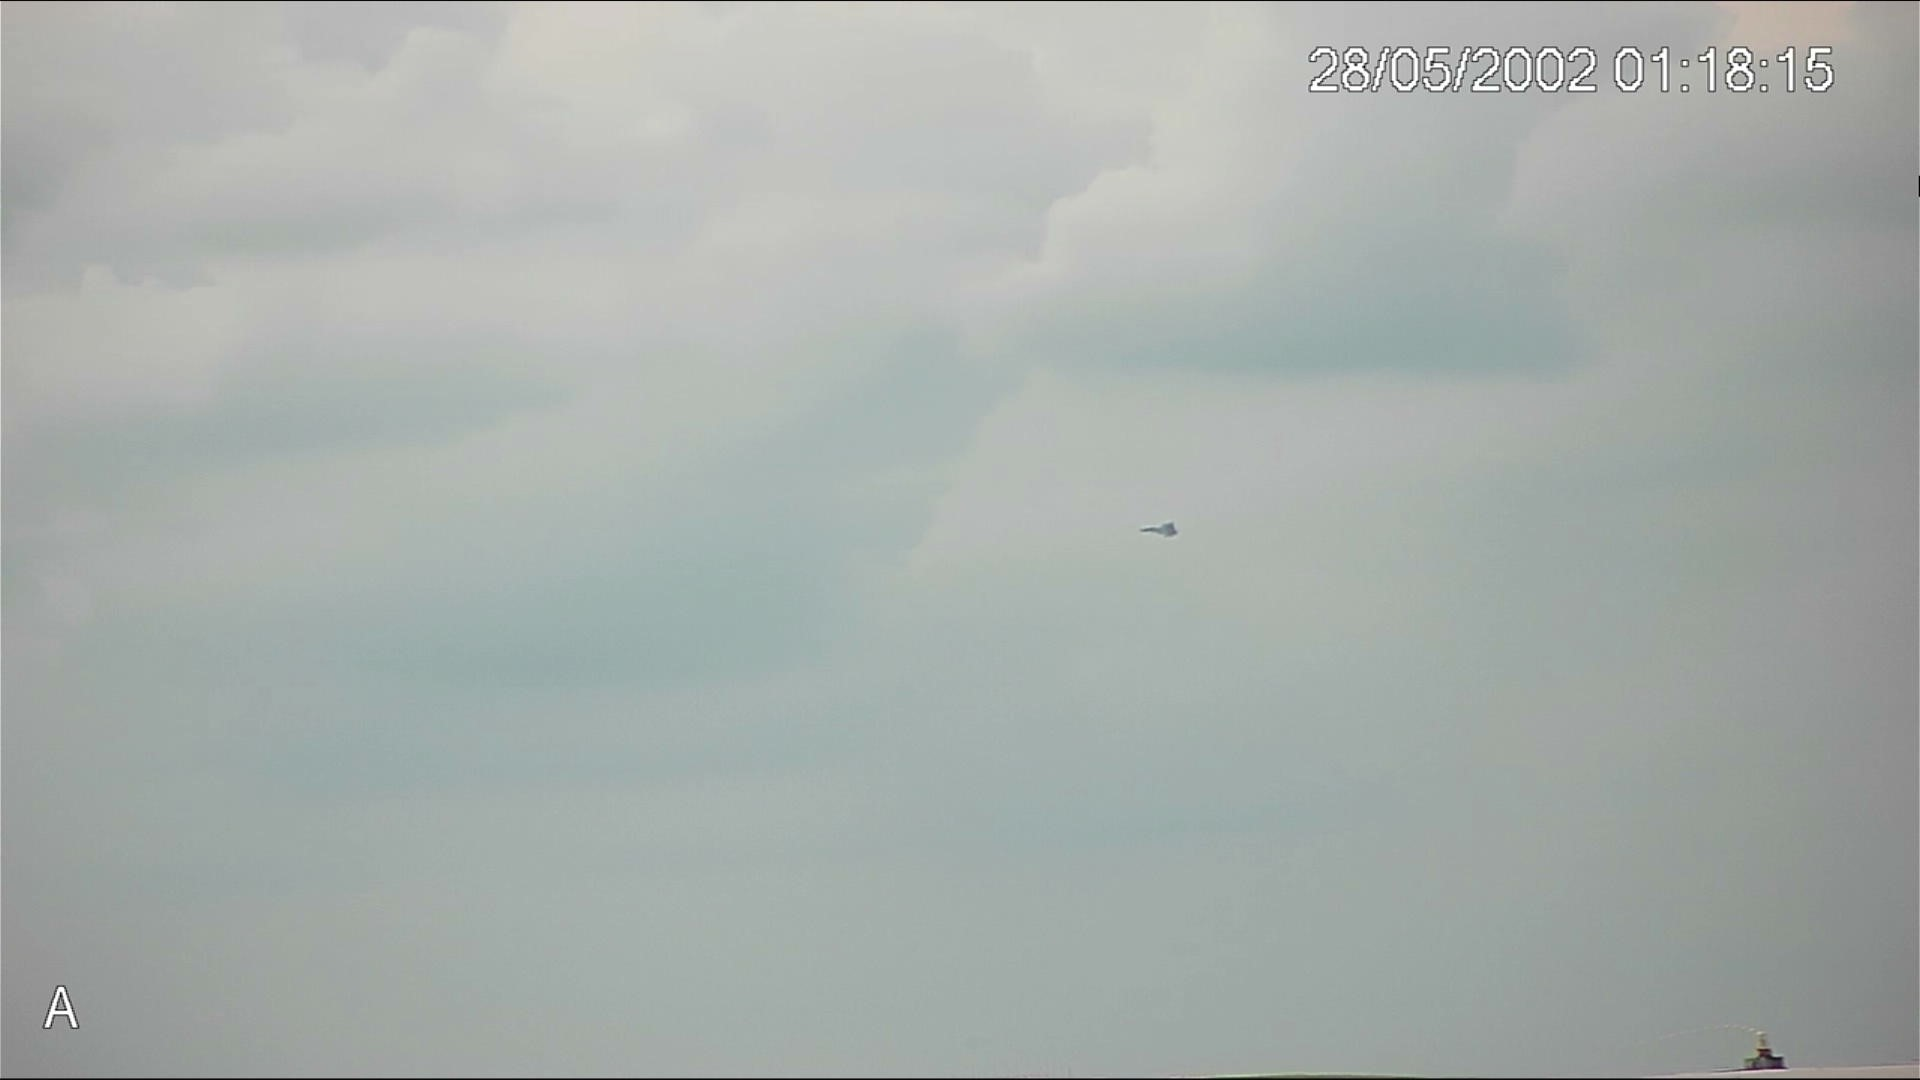SU_30: (1138, 520, 1182, 538)
